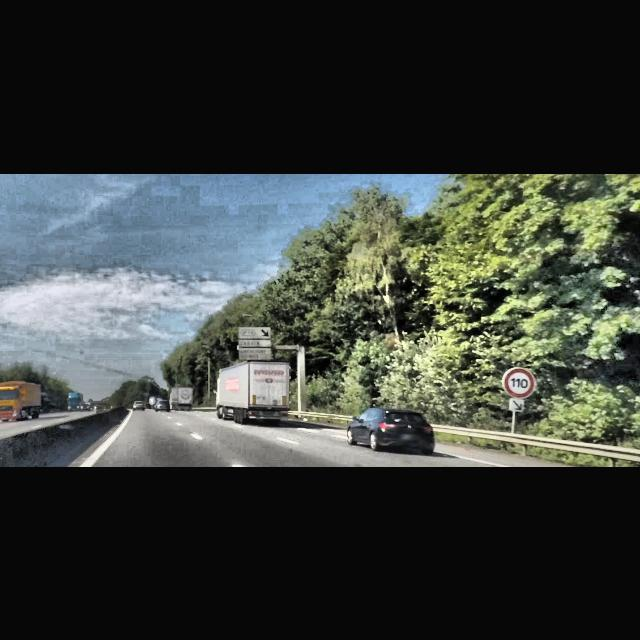speed_110: (504, 367, 534, 397)
